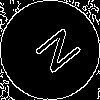N: (25, 25, 83, 82)
